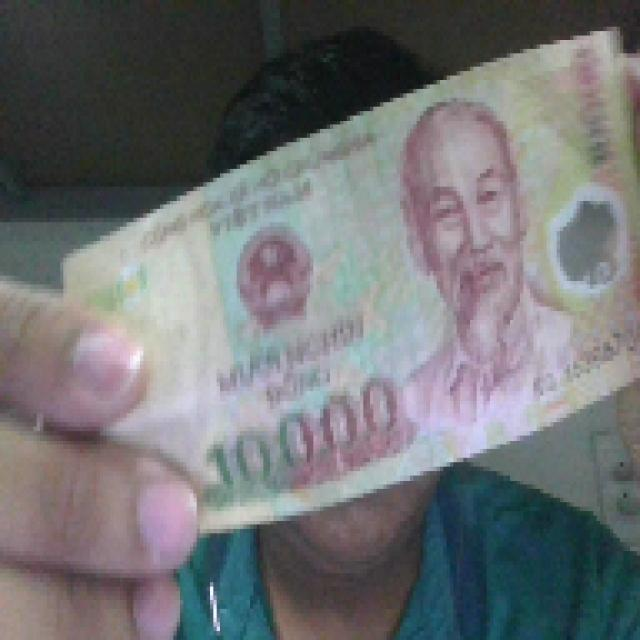10 000 VND: (56, 22, 636, 538)
